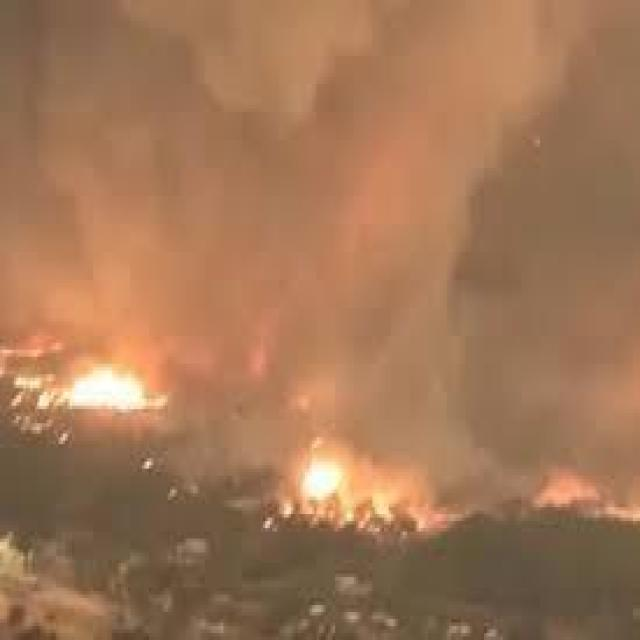fire: (281, 425, 452, 560), (59, 353, 169, 418), (546, 465, 623, 521)
smoke: (16, 12, 586, 343), (364, 361, 517, 462)
